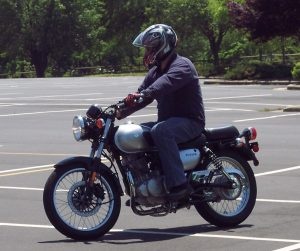helmet: (83, 16, 263, 163)
